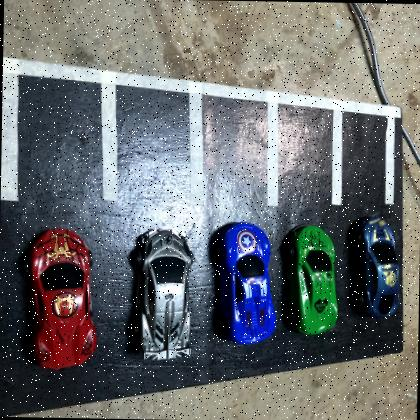Car: (30, 229, 98, 372), (130, 226, 194, 360), (222, 222, 278, 346), (292, 224, 340, 336), (360, 216, 402, 321)
